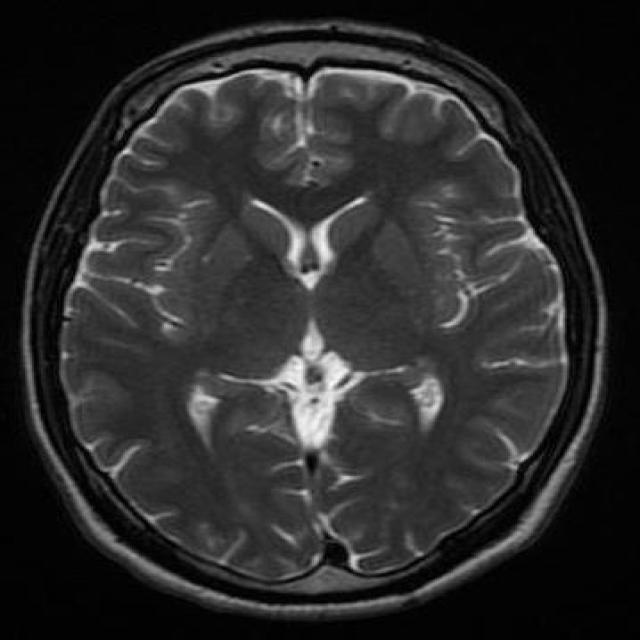notumor: (23, 21, 604, 617)
